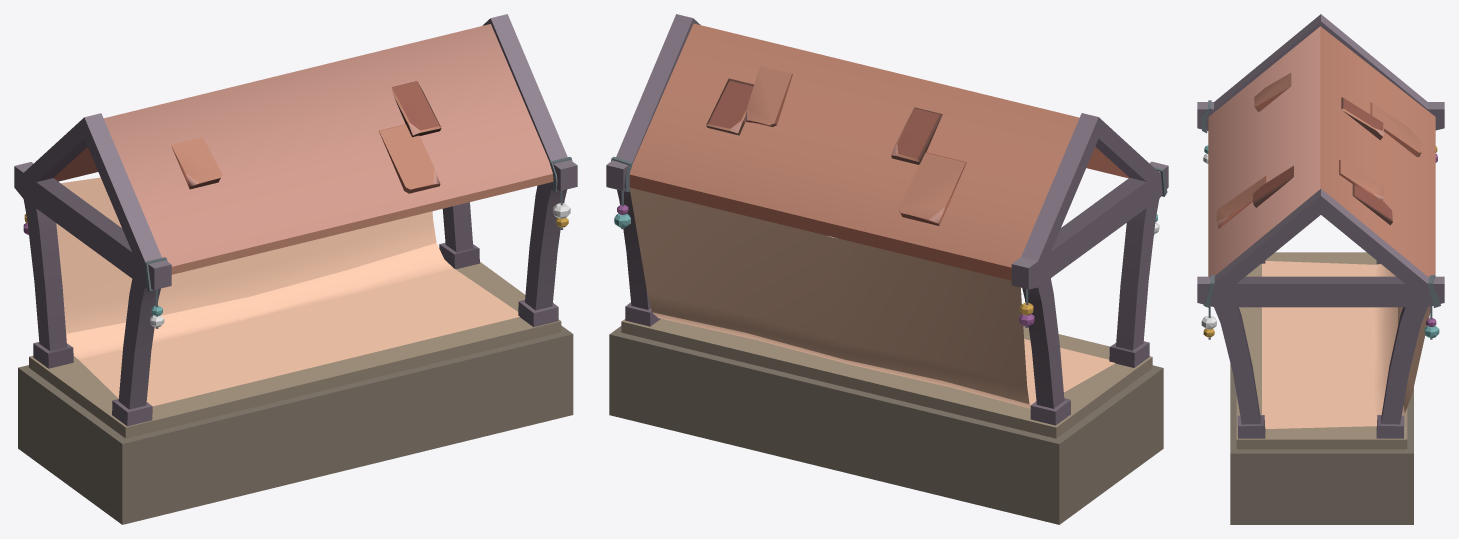
Rendered from Cover.fbx.
The picture shows the model from 3 angles, left to right: view 1: azimuth 30°, elevation 25°; view 2: azimuth 150°, elevation 25°; view 3: azimuth 270°, elevation 25°; orthographic projection. The views are drawn at different scales.
Visible parts, largest first — view 1: Cover1; view 2: Cover1; view 3: Cover1, Decor1.
Part boxes in pixels (bbox=[...]): Cover1: bbox=[14, 14, 577, 524]; Cover1: bbox=[606, 14, 1168, 524]; Cover1: bbox=[1197, 14, 1444, 524]; Decor1: bbox=[1201, 306, 1216, 339].
Bounding box in the file's own units: 2.87 × 2.23 × 1.55.
Materials: 1 (1 with a texture image).
